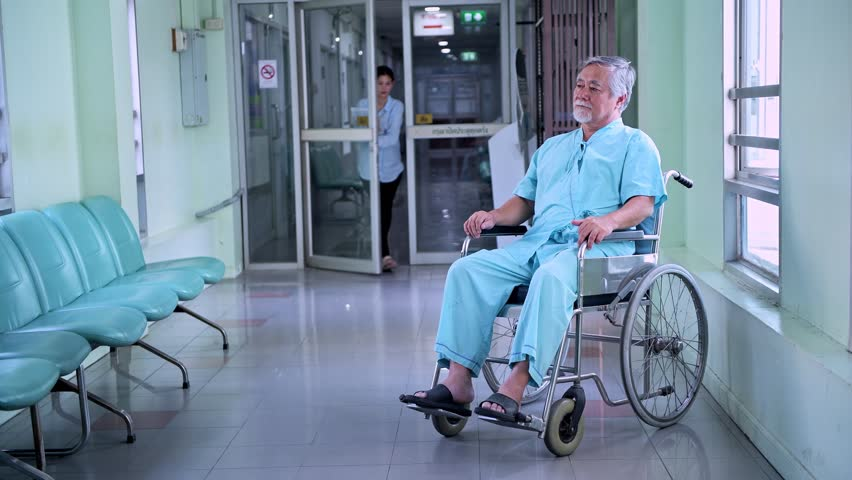wheelchair: (398, 56, 711, 455)
